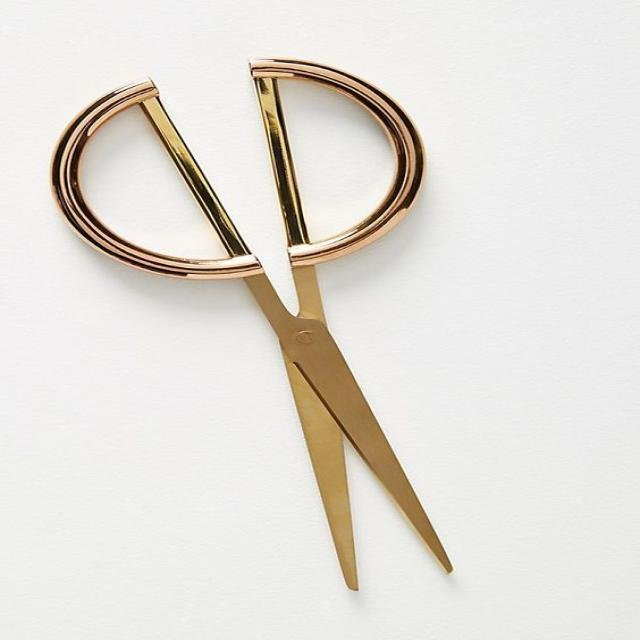scissor: (44, 57, 452, 591)
